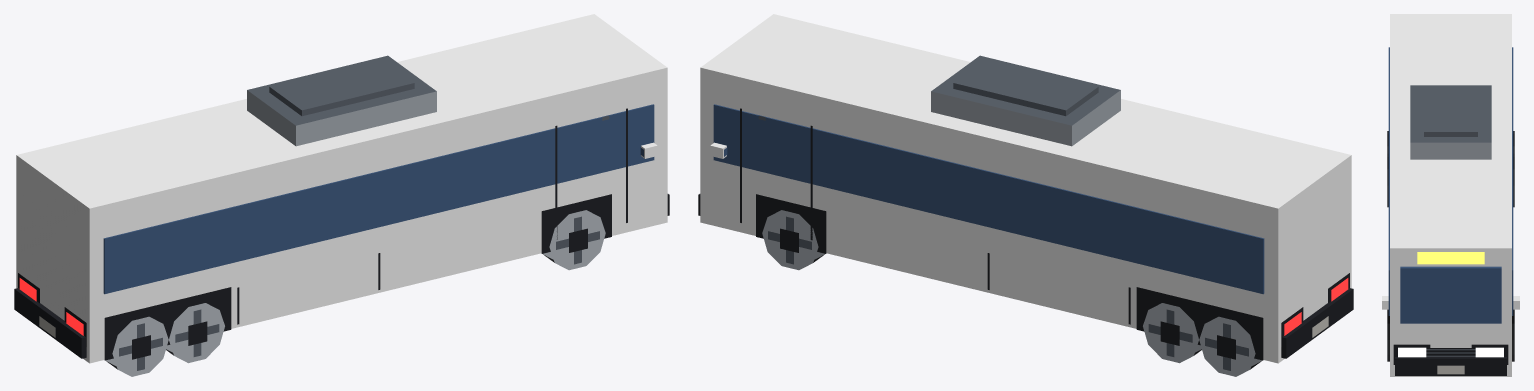
Rendered from bus_coach.glb.
The picture shows the model from 3 angles, left to right: view 1: azimuth 30°, elevation 25°; view 2: azimuth 150°, elevation 25°; view 3: azimuth 270°, elevation 25°; orthographic projection. The views are drawn at different scales.
Visible parts, largest first — view 1: bus_coach; view 2: bus_coach; view 3: bus_coach.
Boxes of the visible parts, <box> form: bus_coach: <box>14,14,669,376</box>; bus_coach: <box>698,14,1353,376</box>; bus_coach: <box>1382,14,1519,376</box>.
Bounding box in the file's own units: 0.8356 × 0.276 × 0.204.
